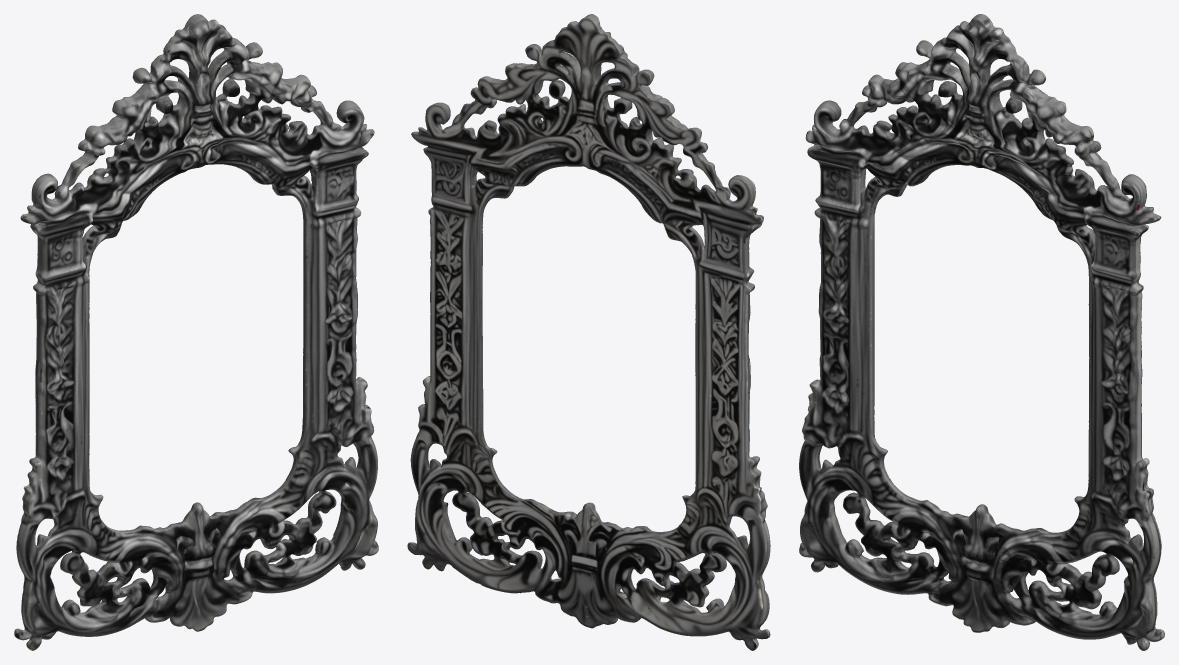
File: gothic_frame.glb
The picture shows the model from 3 angles, left to right: view 1: azimuth 30°, elevation 25°; view 2: azimuth 150°, elevation 25°; view 3: azimuth 330°, elevation 25°; orthographic projection.
Visible parts, largest first — view 1: Mesh1.0_Material.001_0 (×3); view 2: Mesh1.0_Material.001_0 (×3); view 3: Mesh1.0_Material.001_0 (×3).
Boxes of the visible parts, <box> form: Mesh1.0_Material.001_0 (×3): <box>14,14,378,650</box>; Mesh1.0_Material.001_0 (×3): <box>407,14,770,650</box>; Mesh1.0_Material.001_0 (×3): <box>799,14,1164,650</box>.
Size of the model in its own units: 1.24 by 2 by 0.065.
Materials: 1 (1 with a texture image).
